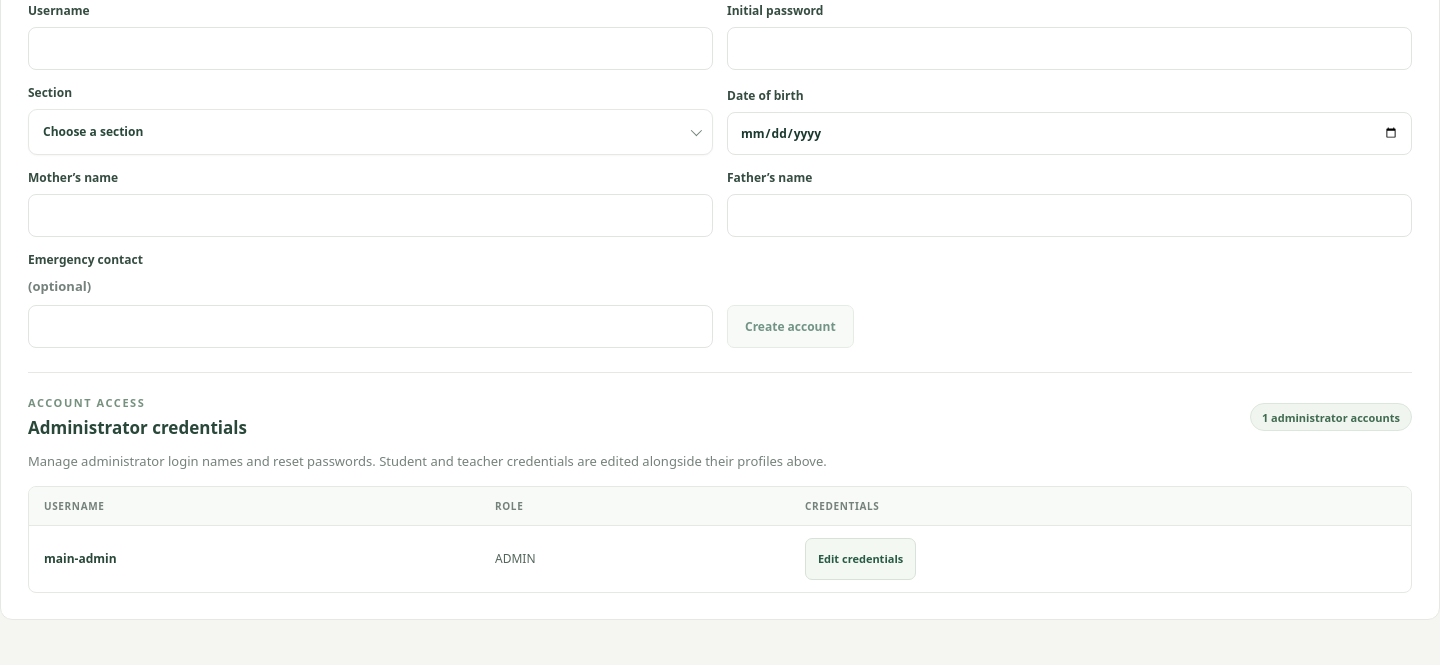
it: people directory › lets an admin rename or reset administrator accounts in the admin credentials section
(page scrolled)
Expected: the text "main-admin" is shown, left=29, top=525, right=480, bottom=592
Click the button "Edit credentials".
click(861, 559)  # box left=805, top=538, right=916, bottom=580
(page scrolled)
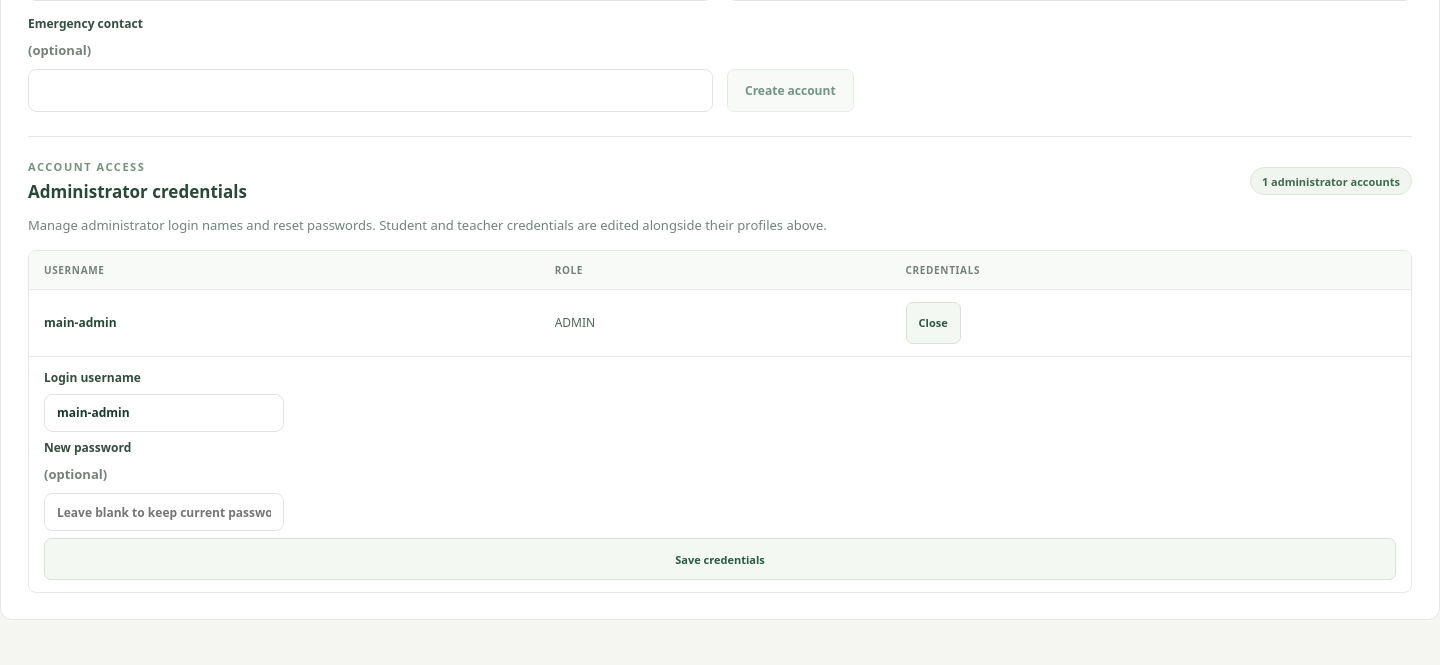
Replace the text in the field labelled "Login username" with "admin-updated" at (164, 413), box left=44, top=394, right=284, bottom=432
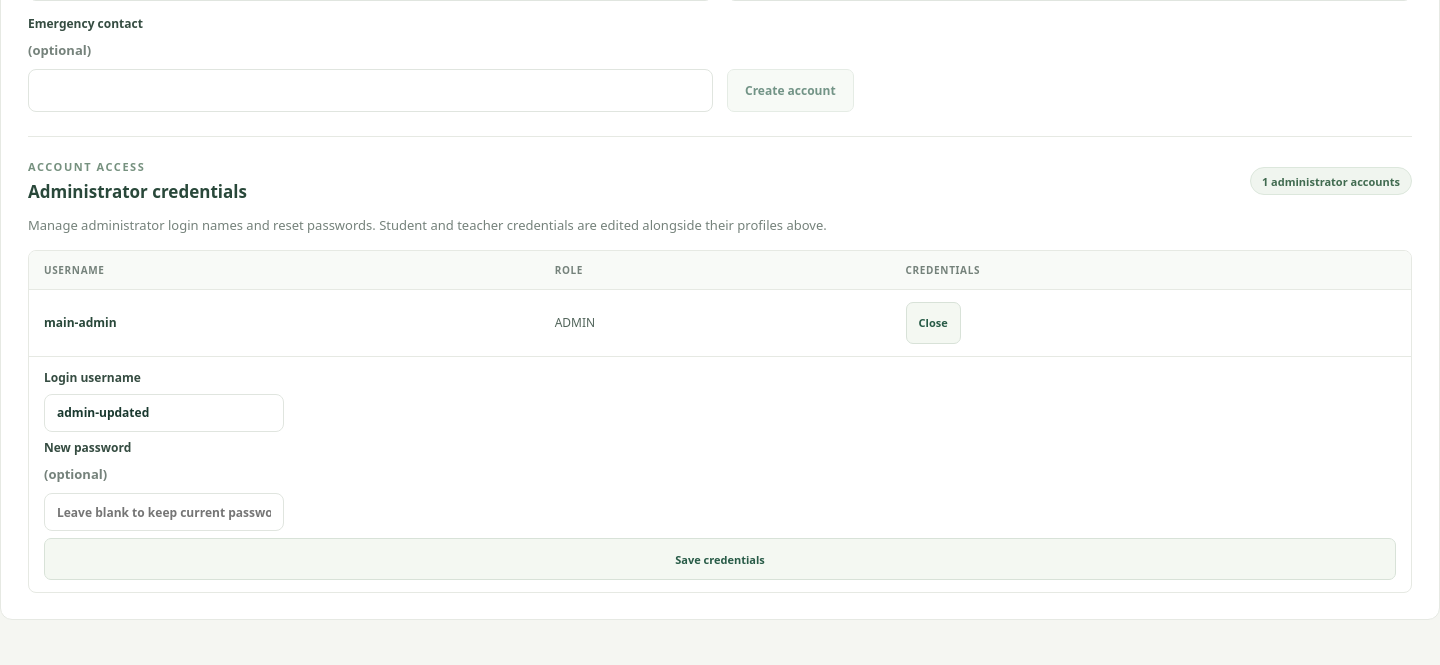
Type "changed-password" into the password field labelled "New password (optional)".
click(164, 512); type("changed-password")  # box left=44, top=493, right=284, bottom=531
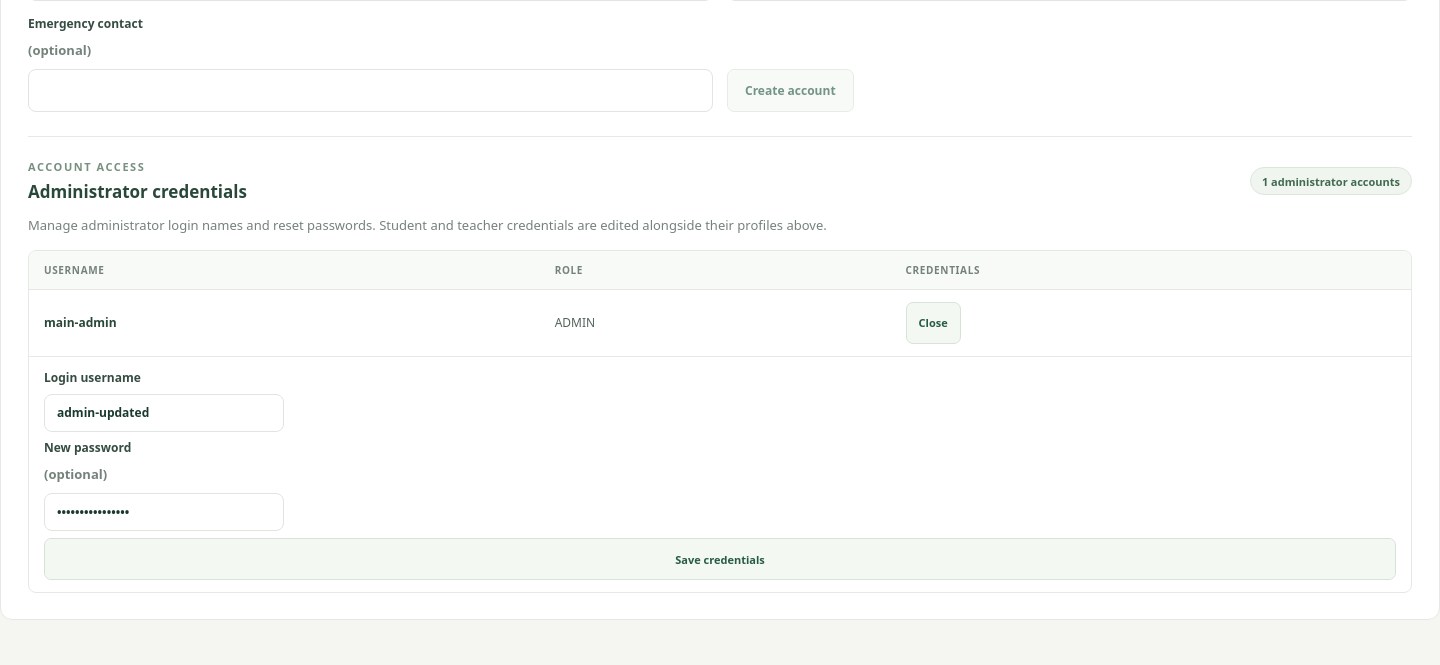
Click the button "Save credentials".
click(720, 559)  # box left=44, top=538, right=1396, bottom=580
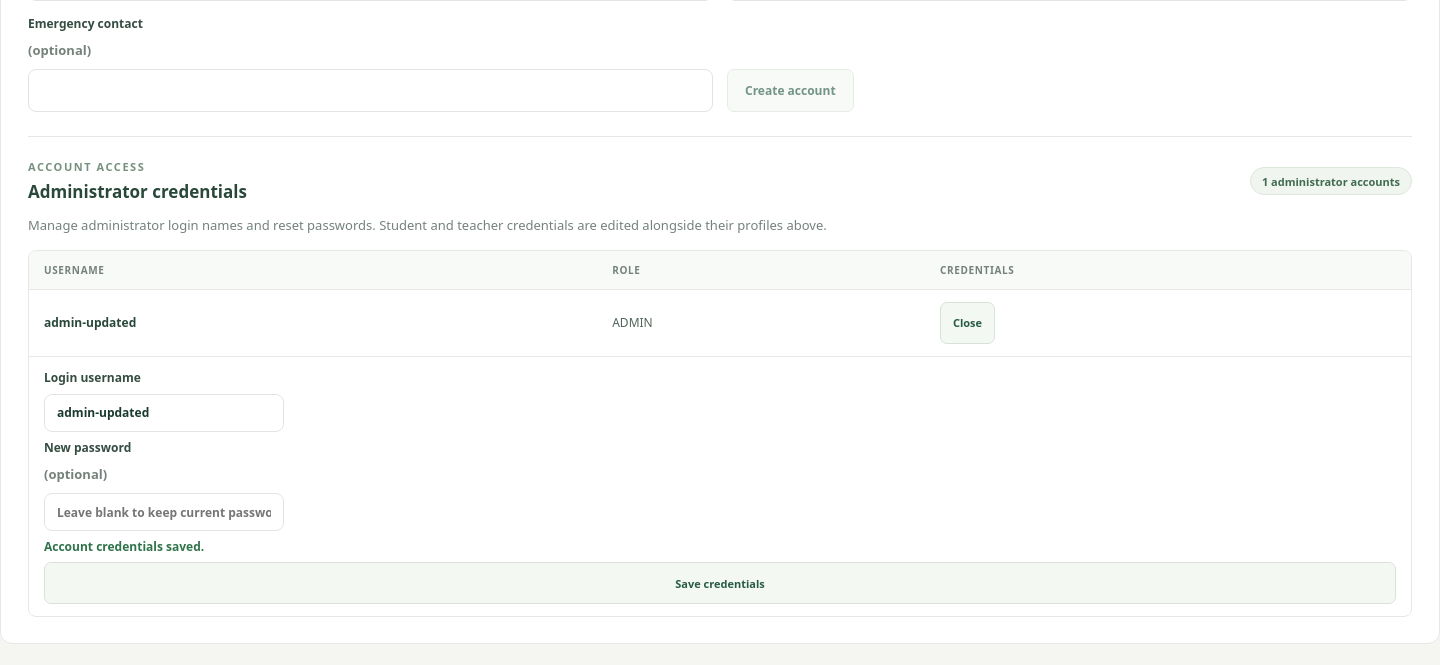
Now the message reads "Account credentials saved.", box left=44, top=538, right=204, bottom=555
